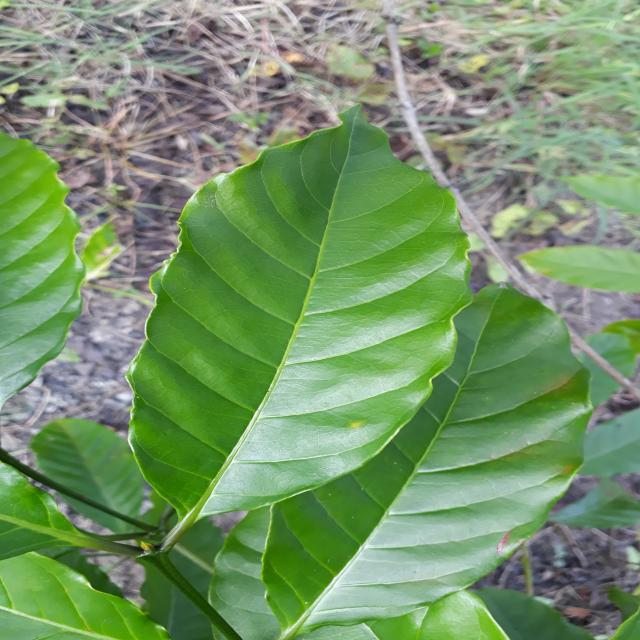Enfermedad-Roya: (126, 108, 475, 533)
